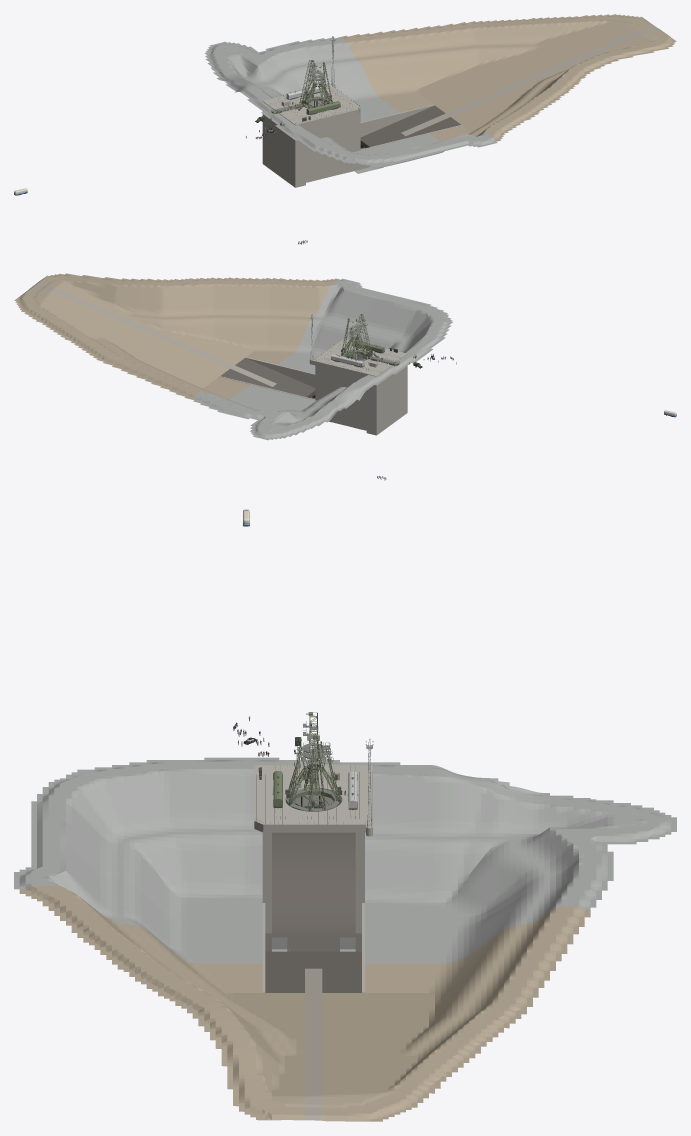
File: pad.lod1.glb
The picture shows the model from 3 angles, top to bottom: view 1: azimuth 30°, elevation 25°; view 2: azimuth 150°, elevation 25°; view 3: azimuth 270°, elevation 25°; orthographic projection. The views are drawn at different scales.
Visible parts, largest first — view 1: FlamePit_Earth, FlamePit_Lining, Platform_ConcretePylons, FlamePit_Road, Platform_Concrete, FlamePit_Scorch, FlamePit_ScorchSump; view 2: FlamePit_Earth, FlamePit_Lining, Platform_ConcretePylons, FlamePit_Road, Platform_Concrete, FlamePit_Scorch, FlamePit_ScorchSump; view 3: FlamePit_Lining, FlamePit_Earth, FlameDeflector_Scorch, Platform_Concrete, Platform_ConcretePylons, FlamePit_Scorch, FlamePit_Road, FlamePit_ScorchSump.
Part boxes in pixels (<box>): FlamePit_Earth: <box>338,14,676,141</box>; FlamePit_Lining: <box>204,37,497,168</box>; Platform_ConcretePylons: <box>262,98,462,187</box>; FlamePit_Road: <box>401,27,662,136</box>; Platform_Concrete: <box>273,84,360,126</box>; FlamePit_Scorch: <box>360,105,460,149</box>; FlamePit_ScorchSump: <box>360,125,407,148</box>; FlamePit_Earth: <box>14,273,340,399</box>; FlamePit_Lining: <box>192,278,452,440</box>; Platform_ConcretePylons: <box>219,351,407,435</box>; FlamePit_Road: <box>30,284,276,386</box>; Platform_Concrete: <box>309,339,395,376</box>; FlamePit_Scorch: <box>220,358,315,399</box>; FlamePit_ScorchSump: <box>271,376,315,397</box>; FlamePit_Lining: <box>14,757,676,963</box>; FlamePit_Earth: <box>19,886,590,1121</box>; FlameDeflector_Scorch: <box>265,832,361,937</box>; Platform_Concrete: <box>254,774,372,836</box>; Platform_ConcretePylons: <box>254,765,372,992</box>; FlamePit_Scorch: <box>265,937,361,992</box>; FlamePit_Road: <box>305,968,322,1120</box>; FlamePit_ScorchSump: <box>265,951,361,968</box>.
Size of the model in its own units: 481 by 128 by 230.
